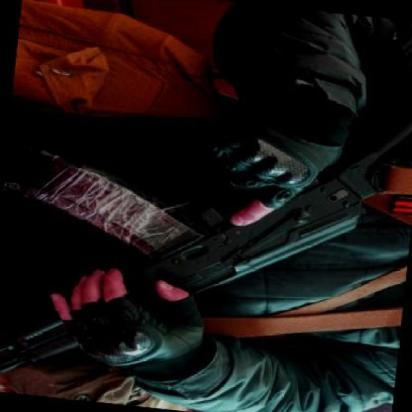Gun: (0, 107, 409, 381)
